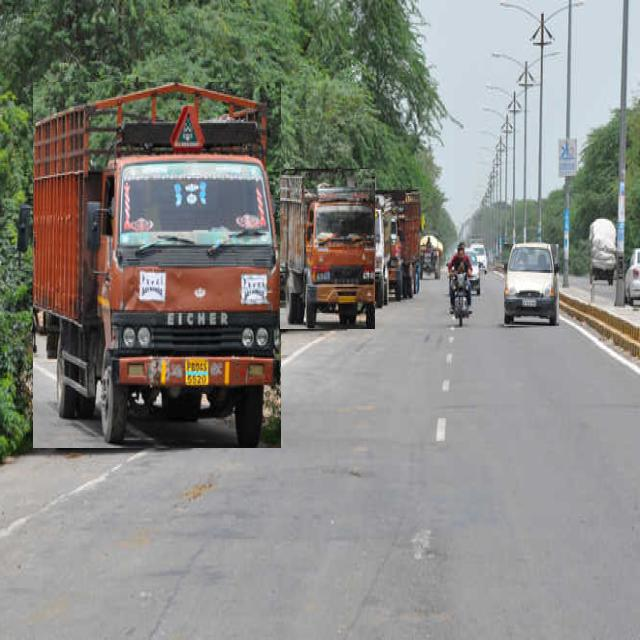car: (504, 244, 559, 326)
truck: (33, 83, 280, 448), (280, 169, 375, 329)
